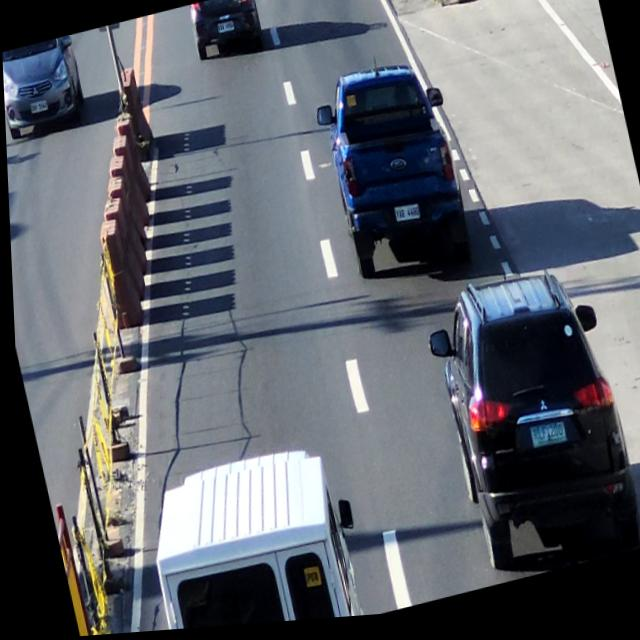Car: (420, 270, 640, 596), (127, 437, 363, 634), (309, 58, 473, 299), (187, 0, 266, 72)
License-Plate: (521, 419, 567, 470), (387, 201, 422, 234), (213, 17, 237, 43)
